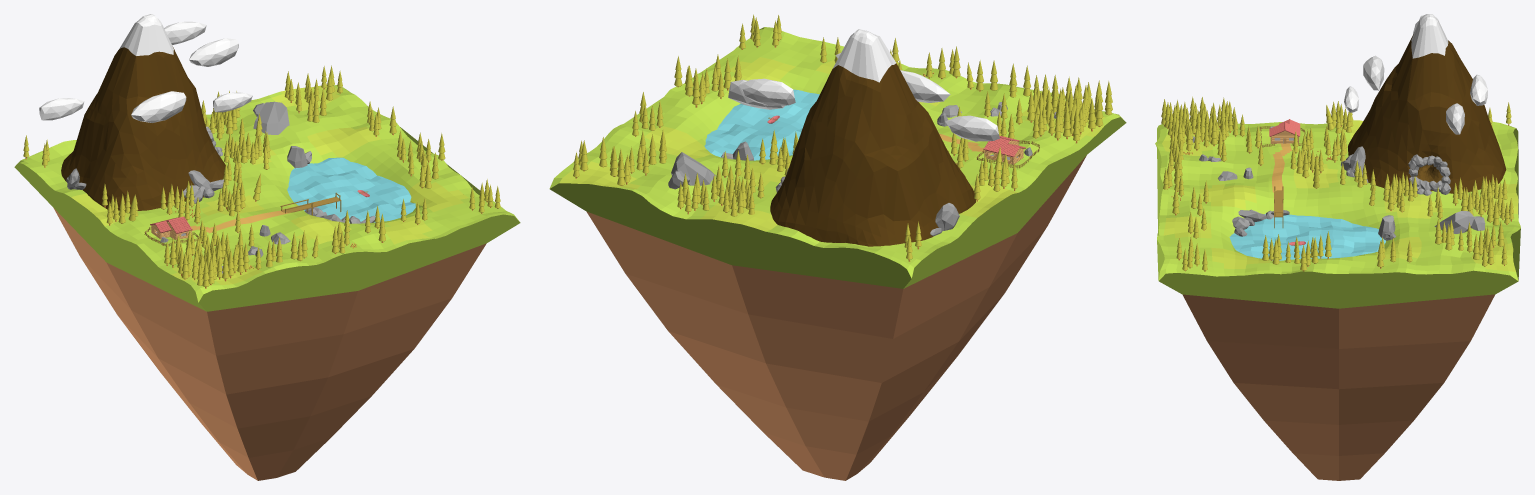
The model's file is LowPoly Nature By Edwin3D.fbx.
3 renders of one model, left to right at view 1: azimuth 30°, elevation 25°; view 2: azimuth 150°, elevation 25°; view 3: azimuth 270°, elevation 25°, orthographic. The views are drawn at different scales.
Parts seen in each view (by area): view 1: Plane.000, Icosphere.003, Cube.020, Cube.006, Sphere.003, Cube.062, Icosphere.023; view 2: Plane.000, Cube.006, Cube.020, Icosphere.003, Cube.062, Sphere.003, Cube.008, Cube.010, Cube.007; view 3: Plane.000, Cube.006, Cube.020, Icosphere.003, Cube.062, Cube.008, Cube.007, Sphere.003, Cube.010, Icosphere.023.
Part boxes in pixels (x1,y1,x2,y2): Plane.000: [14, 14, 520, 480]; Icosphere.003: [39, 21, 252, 122]; Cube.020: [118, 196, 282, 288]; Cube.006: [284, 65, 500, 213]; Sphere.003: [253, 101, 289, 134]; Cube.062: [150, 216, 192, 239]; Icosphere.023: [183, 170, 223, 203]; Plane.000: [549, 27, 1126, 480]; Cube.006: [573, 14, 781, 185]; Cube.020: [1001, 63, 1112, 183]; Icosphere.003: [728, 53, 999, 141]; Cube.062: [983, 136, 1025, 164]; Sphere.003: [671, 152, 715, 185]; Cube.008: [677, 173, 709, 214]; Cube.010: [723, 177, 754, 216]; Cube.007: [711, 165, 741, 205]; Plane.000: [1155, 14, 1520, 480]; Cube.006: [1176, 218, 1507, 271]; Cube.020: [1161, 96, 1336, 160]; Icosphere.003: [1344, 21, 1487, 134]; Cube.062: [1269, 119, 1300, 143]; Cube.008: [1487, 194, 1513, 225]; Cube.007: [1461, 185, 1488, 216]; Sphere.003: [1434, 211, 1474, 233]; Cube.010: [1480, 174, 1507, 205]; Icosphere.023: [1341, 146, 1368, 182].
Size of the model in its own units: 2130 by 2599 by 2007.
